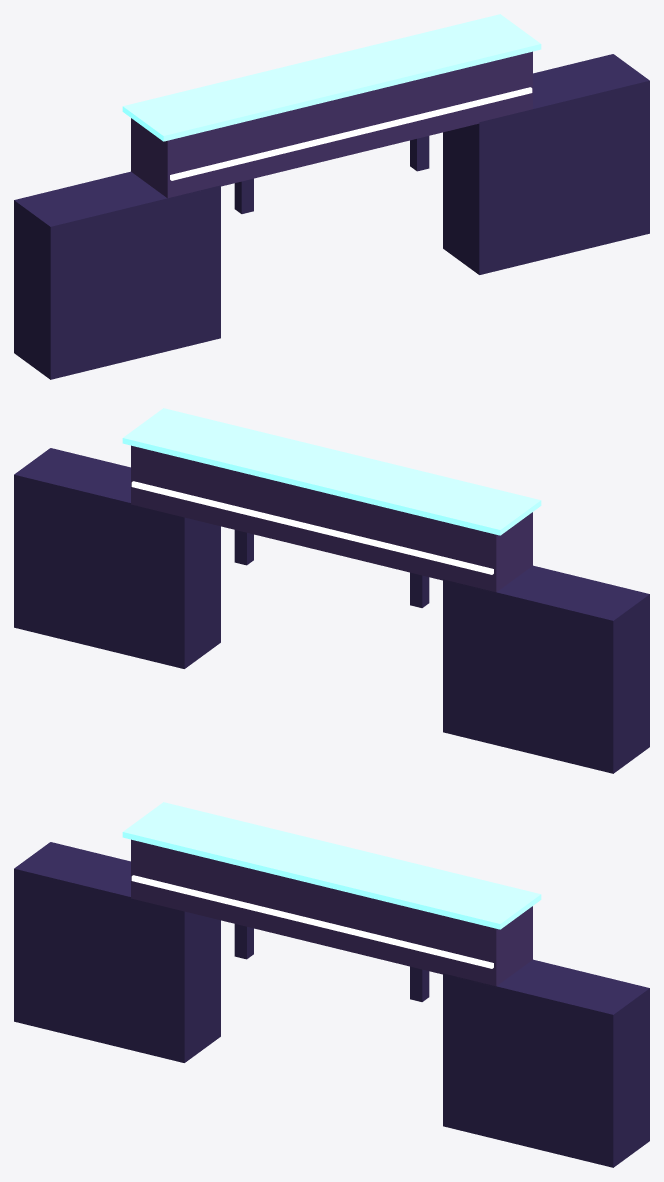
File: 08_skybridge_link_long.glb
3 views of the same model, one above another, from view 1: azimuth 30°, elevation 25°; view 2: azimuth 150°, elevation 25°; view 3: azimuth 330°, elevation 25° (orthographic).
Visible parts, largest first — view 1: tower_left_0, tower_right_1, bridge_body_2, roof_trim_3, window_strip_5, hanger_7, hanger_6; view 2: tower_left_0, tower_right_1, bridge_body_2, roof_trim_3, window_strip_4, hanger_7, hanger_6; view 3: tower_right_1, tower_left_0, bridge_body_2, roof_trim_3, window_strip_5, hanger_6, hanger_7.
Part boxes in pixels (left/top/right/bottom): tower_left_0: left=14, top=171, right=220, bottom=379; tower_right_1: left=443, top=54, right=649, bottom=274; bridge_body_2: left=131, top=51, right=532, bottom=198; roof_trim_3: left=122, top=14, right=541, bottom=141; window_strip_5: left=170, top=87, right=532, bottom=180; hanger_7: left=410, top=136, right=429, bottom=171; hanger_6: left=234, top=178, right=253, bottom=213; tower_left_0: left=443, top=565, right=649, bottom=773; tower_right_1: left=14, top=448, right=220, bottom=668; bridge_body_2: left=131, top=445, right=532, bottom=592; roof_trim_3: left=122, top=408, right=541, bottom=535; window_strip_4: left=131, top=481, right=493, bottom=574; hanger_7: left=234, top=530, right=253, bottom=565; hanger_6: left=410, top=572, right=429, bottom=607; tower_right_1: left=443, top=959, right=649, bottom=1167; tower_left_0: left=14, top=842, right=220, bottom=1062; bridge_body_2: left=131, top=839, right=532, bottom=986; roof_trim_3: left=122, top=802, right=541, bottom=929; window_strip_5: left=131, top=875, right=493, bottom=968; hanger_6: left=234, top=924, right=253, bottom=959; hanger_7: left=410, top=966, right=429, bottom=1001.
Size of the model in its own units: 24.6 by 8.56 by 2.9.
